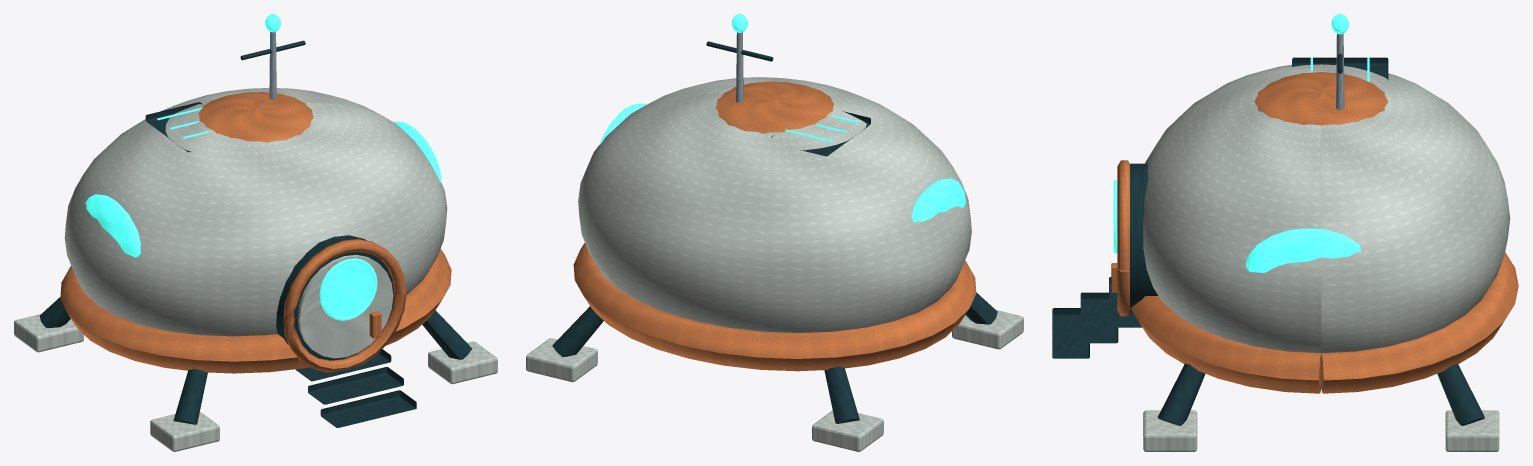
File: pod.glb
The picture shows the model from 3 angles, left to right: view 1: azimuth 30°, elevation 25°; view 2: azimuth 150°, elevation 25°; view 3: azimuth 270°, elevation 25°; orthographic projection. The views are drawn at different scales.
Parts seen in each view (by area): view 1: pod; view 2: pod; view 3: pod.
Boxes of the visible parts, x1=… form: pod: x1=14, y1=14, x2=497, y2=451; pod: x1=526, y1=14, x2=1023, y2=451; pod: x1=1052, y1=14, x2=1518, y2=451.
Size of the model in its own units: 4.7 by 4.22 by 4.89.
1 material, 1 textured.
